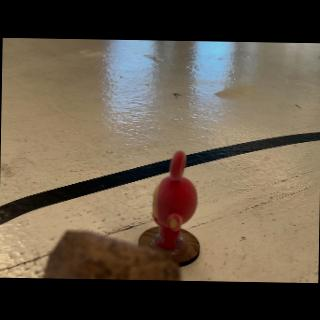teletubby: (152, 151, 197, 249)
